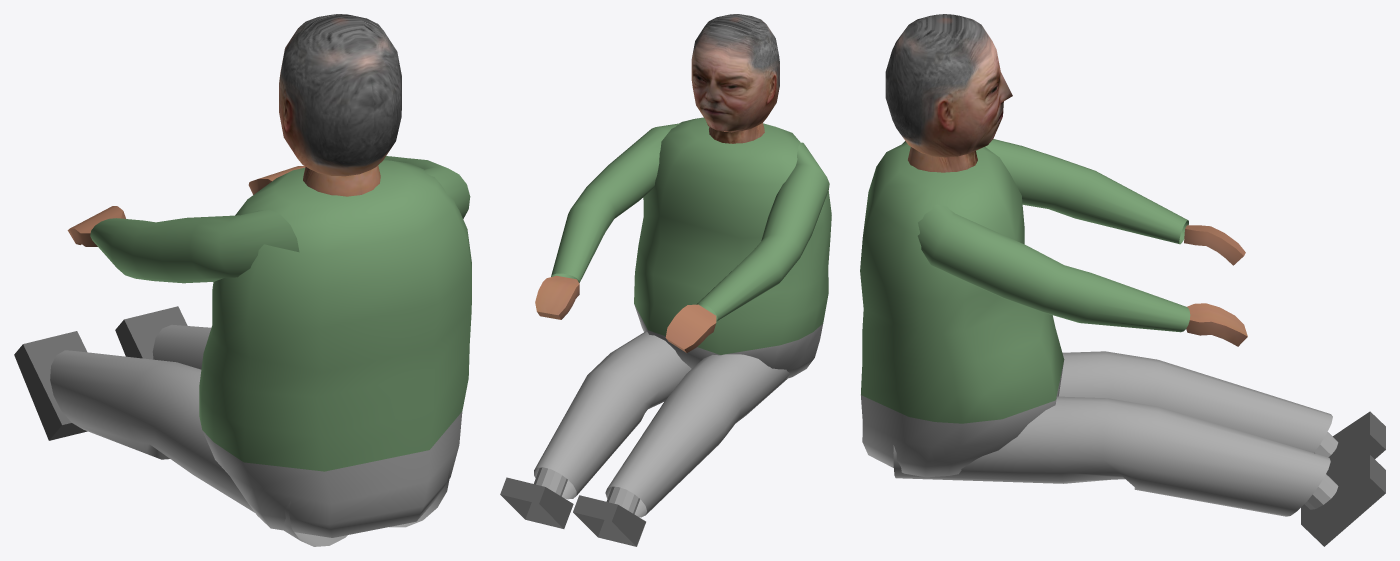
File: lowdriver.fbx
3 renders of one model, left to right at view 1: azimuth 30°, elevation 25°; view 2: azimuth 150°, elevation 25°; view 3: azimuth 270°, elevation 25°, orthographic. The views are drawn at different scales.
Parts seen in each view (by area): view 1: pasted__pasted__pCylinder3, pasted__pasted__pCylinder9, pasted__pasted__pCylinder5, pasted__pasted__pCylinder7, pasted__pasted__pCube4, pasted__pasted__pCylinder4, pasted__pasted__pCube3, pasted__pasted__pCylinder8, pasted__pasted__pCylinder6, pasted__pasted__pCube2; view 2: pasted__pasted__pCylinder3, pasted__pasted__pCylinder5, pasted__pasted__pCylinder4, pasted__pasted__pCylinder9, pasted__pasted__pCylinder7, pasted__pasted__pCylinder6, pasted__pasted__pCube3, pasted__pasted__pCube4, pasted__pasted__pCube2, pasted__pasted__pCube1, pasted__pasted__pCylinder8, pasted__pasted__pCylinder10 (+1 smaller); view 3: pasted__pasted__pCylinder3, pasted__pasted__pCylinder4, pasted__pasted__pCylinder9, pasted__pasted__pCylinder6, pasted__pasted__pCylinder5, pasted__pasted__pCylinder7, pasted__pasted__pCube3, pasted__pasted__pCube4, pasted__pasted__pCube1, pasted__pasted__pCube2, pasted__pasted__pCylinder8.
Part boxes in pixels (x1,y1,x2,y2): pasted__pasted__pCylinder3: [199, 160, 471, 537]; pasted__pasted__pCylinder9: [279, 14, 401, 176]; pasted__pasted__pCylinder5: [50, 350, 347, 546]; pasted__pasted__pCylinder7: [90, 209, 299, 283]; pasted__pasted__pCube4: [14, 331, 87, 440]; pasted__pasted__pCylinder4: [152, 324, 450, 527]; pasted__pasted__pCube3: [115, 306, 187, 359]; pasted__pasted__pCylinder8: [303, 165, 380, 196]; pasted__pasted__pCylinder6: [384, 156, 470, 218]; pasted__pasted__pCube2: [67, 206, 125, 246]; pasted__pasted__pCylinder3: [634, 117, 831, 378]; pasted__pasted__pCylinder5: [605, 354, 789, 517]; pasted__pasted__pCylinder4: [534, 331, 691, 499]; pasted__pasted__pCylinder9: [691, 14, 779, 132]; pasted__pasted__pCylinder7: [696, 142, 829, 321]; pasted__pasted__pCylinder6: [551, 123, 680, 283]; pasted__pasted__pCube3: [500, 477, 573, 528]; pasted__pasted__pCube4: [573, 495, 645, 546]; pasted__pasted__pCube2: [665, 304, 716, 352]; pasted__pasted__pCube1: [535, 275, 579, 319]; pasted__pasted__pCylinder8: [709, 123, 764, 143]; pasted__pasted__pCylinder10: [534, 467, 567, 496]; pasted__pasted__pCylinder3: [860, 142, 1064, 477]; pasted__pasted__pCylinder4: [893, 396, 1330, 516]; pasted__pasted__pCylinder9: [885, 14, 1012, 157]; pasted__pasted__pCylinder6: [917, 204, 1190, 332]; pasted__pasted__pCylinder5: [1058, 351, 1332, 452]; pasted__pasted__pCylinder7: [902, 139, 1188, 244]; pasted__pasted__pCube3: [1301, 455, 1385, 546]; pasted__pasted__pCube4: [1326, 411, 1385, 479]; pasted__pasted__pCube1: [1186, 303, 1247, 346]; pasted__pasted__pCube2: [1184, 225, 1245, 265]; pasted__pasted__pCylinder8: [908, 147, 977, 172].
Size of the model in its own units: 10.55 by 18.77 by 18.11.
Materials: 4 (1 with a texture image).
